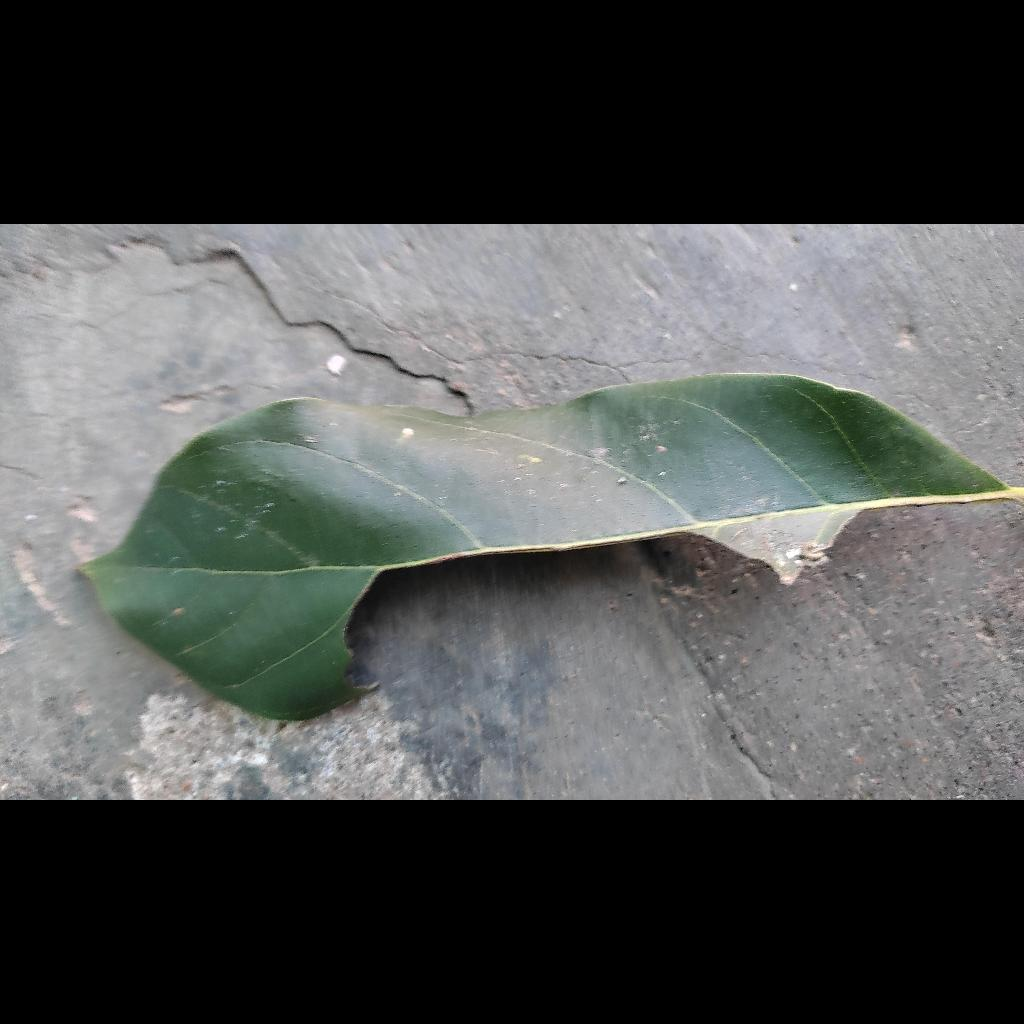plaga: (82, 374, 1024, 719)
